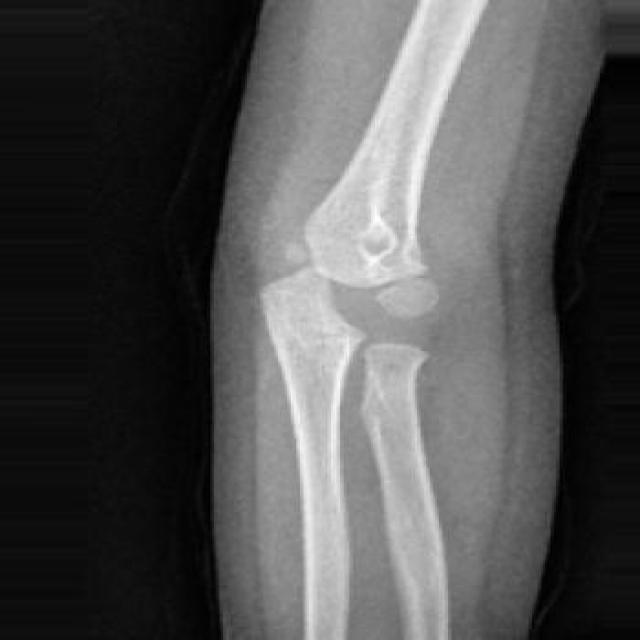Fracture: (368, 272, 462, 361)
